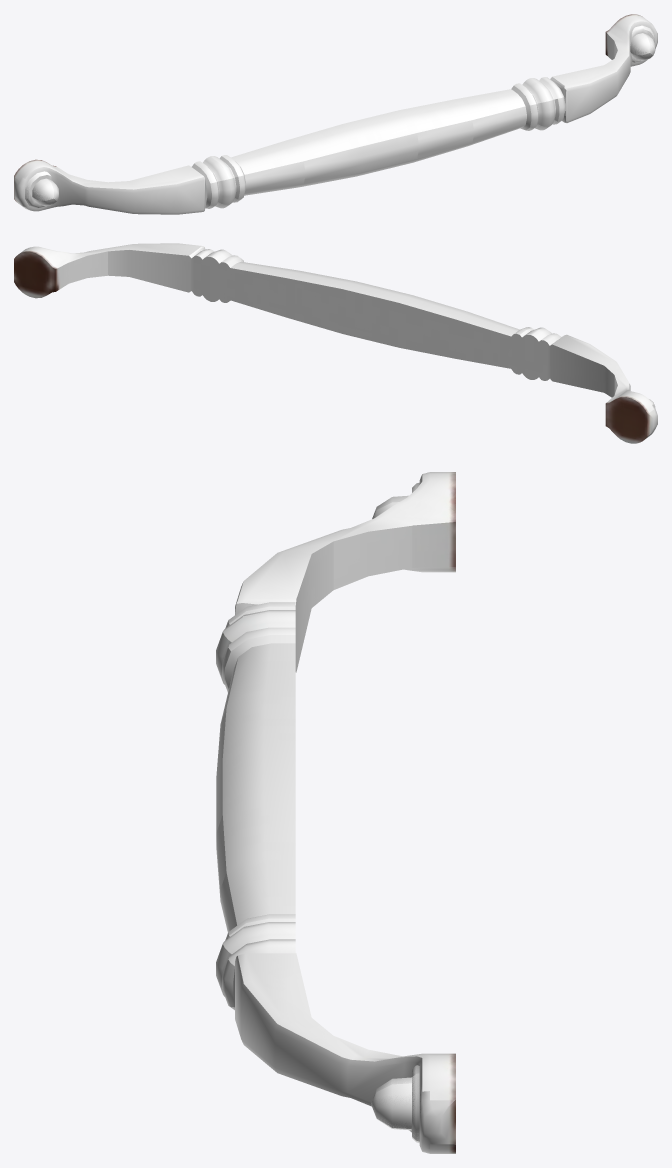
The model's file is link_2__handle-23.glb.
3 renders of one model, top to bottom at view 1: azimuth 30°, elevation 25°; view 2: azimuth 150°, elevation 25°; view 3: azimuth 270°, elevation 25°, orthographic. The views are drawn at different scales.
Visible parts, largest first — view 1: world; view 2: world; view 3: world.
Part boxes in pixels (x1,y1,x2,y2): world: (14,14,657,214); world: (14,243,657,443); world: (216,472,455,1153).
Bounding box in the file's own units: 0.3112 × 0.021 × 0.0506.
1 material, 1 textured.
